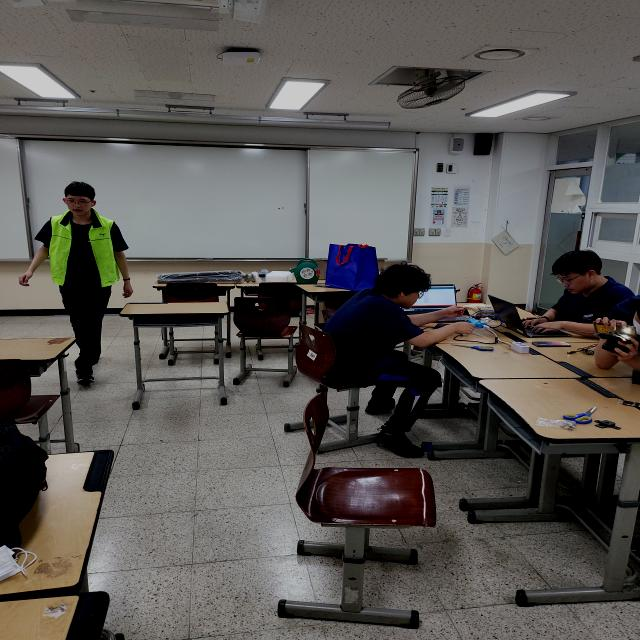weston_spy: (37, 211, 140, 303)
